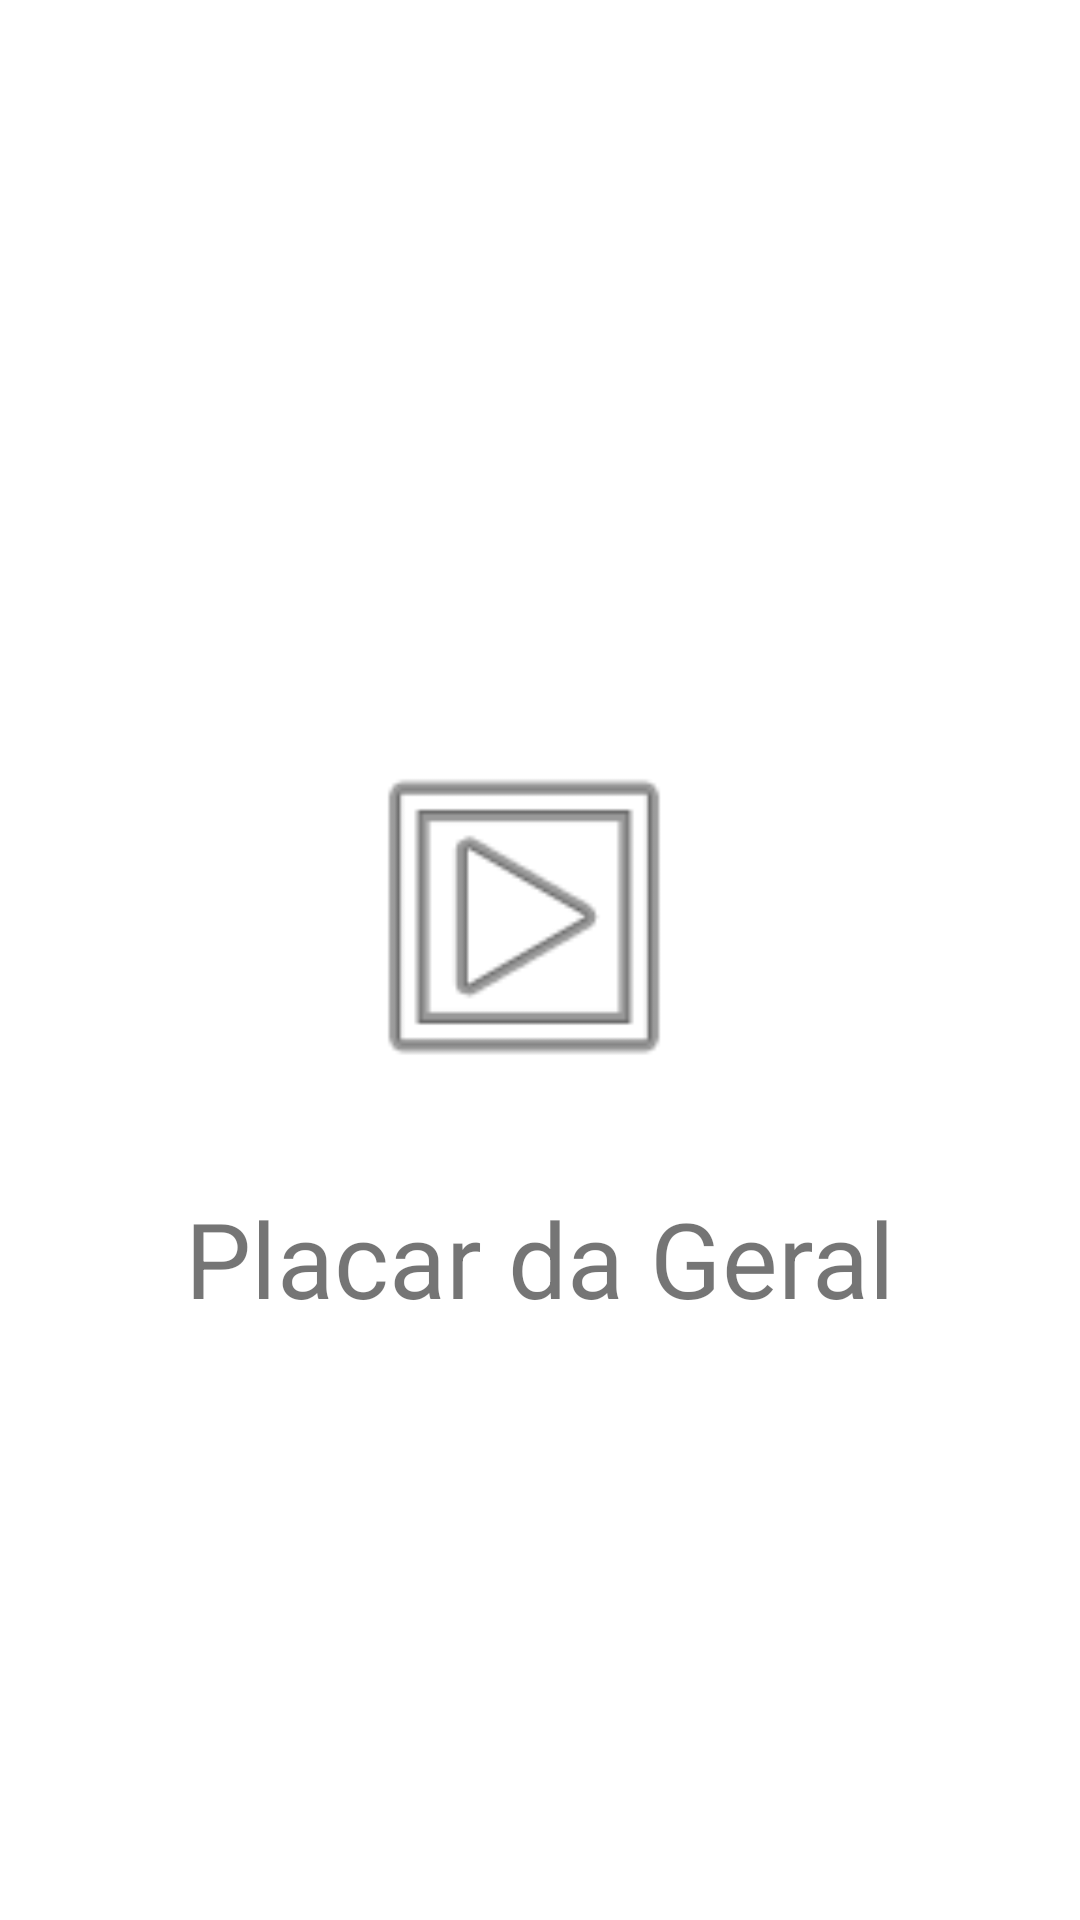

Point at icon controls on the screen. Image size 1080 x 1920, points as [x,y].
slideshow: [524,917]
